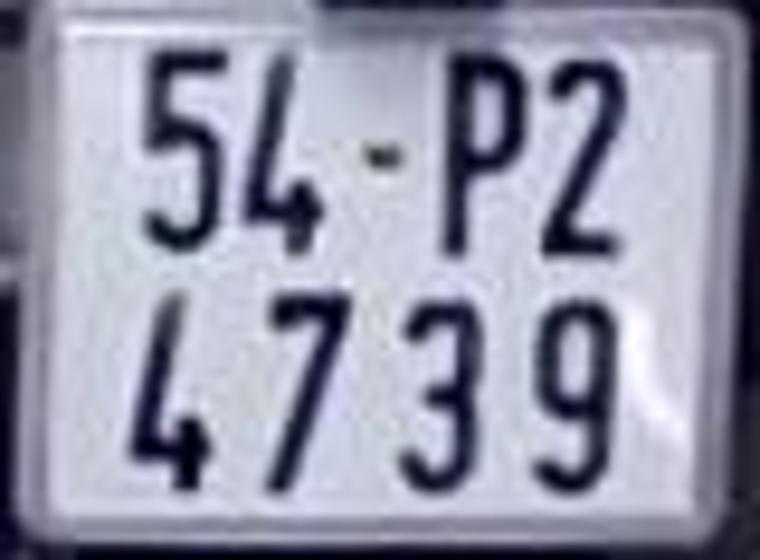-: (361, 140, 405, 178)
2: (544, 51, 622, 264)
3: (388, 290, 487, 496)
4: (124, 289, 213, 496), (243, 48, 328, 258)
5: (139, 48, 231, 252)
7: (258, 286, 360, 498)
9: (531, 291, 615, 496)
P: (447, 49, 530, 257)
